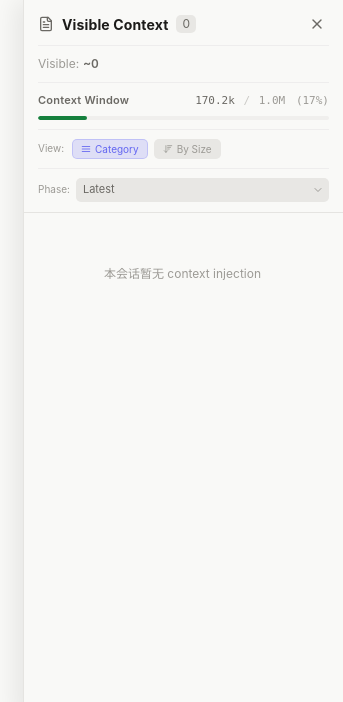
it: ContextPanel › phase selector filters content and shows empty phase message
The width and height of the screenshot is (343, 702).
What coordinates should you click on to do the following:
click the button with aria-label "Phase selector"
I would click on:
 (202, 190)
Its box is [76,178,329,202].
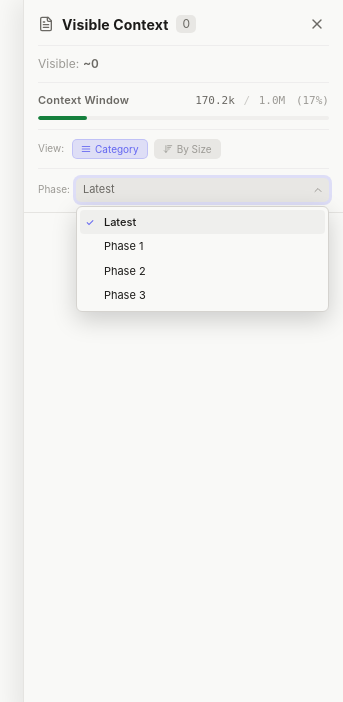
What coordinates should you click on to do the following:
click the option "Phase 1"
I would click on:
 (202, 246)
Its box is [80,234,325,258].
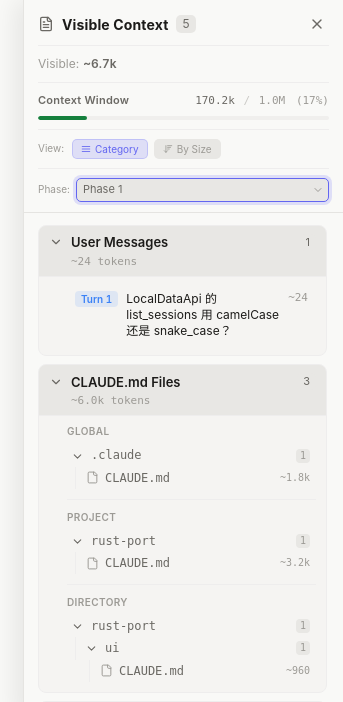
expect the text "LocalDataApi 的 list_sessions 用 camelCase 还是 snake_case？" is shown: met, box [126,291,280,339]
What coordinates should you click on to do the following:
click the button with aria-label "Phase selector"
I would click on:
 (202, 190)
Its box is [76,178,329,202].
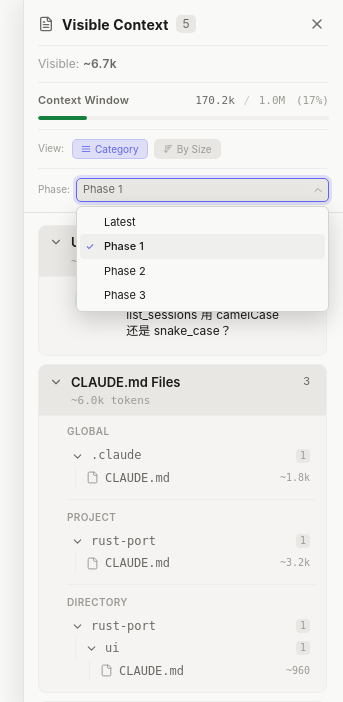
What coordinates should you click on to do the following:
click the option "Phase 3"
I would click on:
 (202, 295)
Its box is [80,283,325,308].
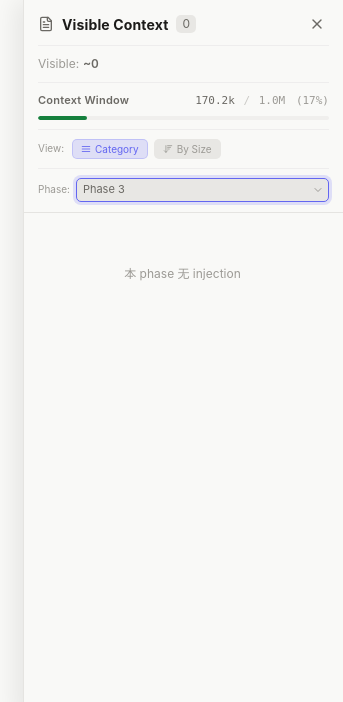
expect the text "本 phase 无 injection" is shown: met, box [124,266,241,280]
